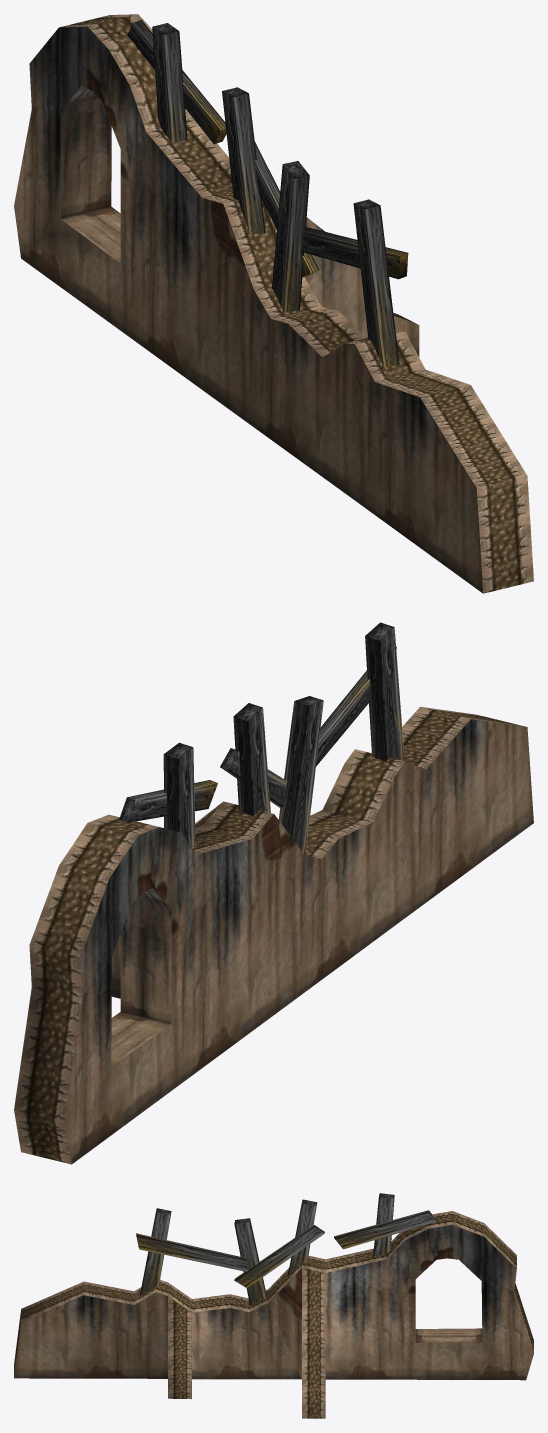
File: CB_BRKN_BUILDING01_CM.fbx
3 views of the same model, one above another, from view 1: azimuth 30°, elevation 25°; view 2: azimuth 150°, elevation 25°; view 3: azimuth 270°, elevation 25° (orthographic). The views are drawn at different scales.
Visible parts, largest first — view 1: CB_BRKN_BUILDING01_CM; view 2: CB_BRKN_BUILDING01_CM; view 3: CB_BRKN_BUILDING01_CM.
Boxes of the visible parts, box(x1,y1,x2,y2) form: CB_BRKN_BUILDING01_CM: box(14, 14, 533, 593); CB_BRKN_BUILDING01_CM: box(14, 622, 533, 1164); CB_BRKN_BUILDING01_CM: box(14, 1193, 533, 1418).
Bounding box in the file's own units: 56217 × 87296 × 233180.
4 materials, 4 textured.
